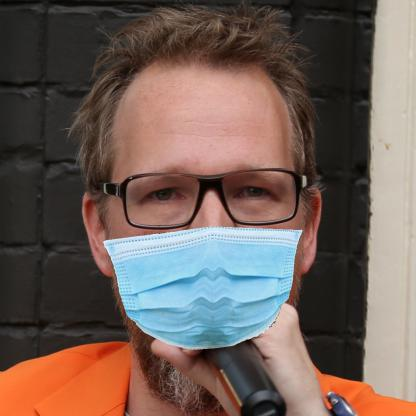Correctly_Masked: (100, 56, 306, 350)
